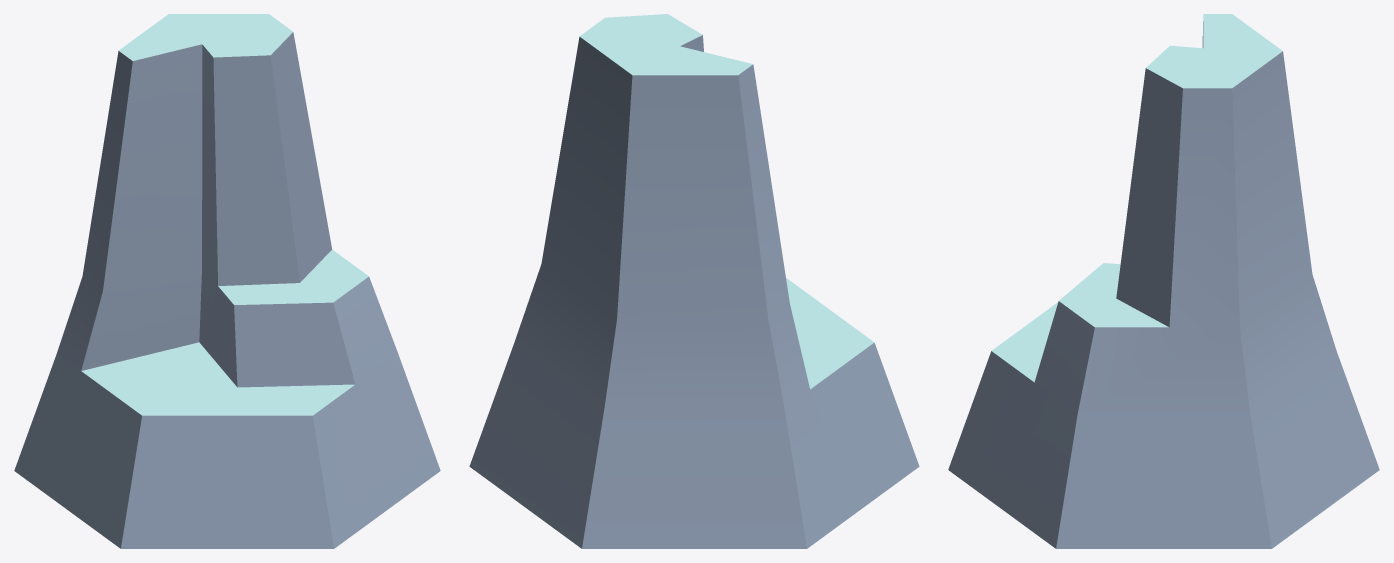
File: rockFormationSmall.fbx
3 renders of one model, left to right at view 1: azimuth 30°, elevation 25°; view 2: azimuth 150°, elevation 25°; view 3: azimuth 270°, elevation 25°, orthographic. The views are drawn at different scales.
Parts seen in each view (by area): view 1: rockFormationSmall; view 2: rockFormationSmall; view 3: rockFormationSmall.
Boxes of the visible parts, bbox=[...] form: rockFormationSmall: bbox=[14, 14, 440, 548]; rockFormationSmall: bbox=[469, 14, 919, 548]; rockFormationSmall: bbox=[948, 14, 1379, 548].
Bounding box in the file's own units: 5.4 × 6.67 × 6.23.
